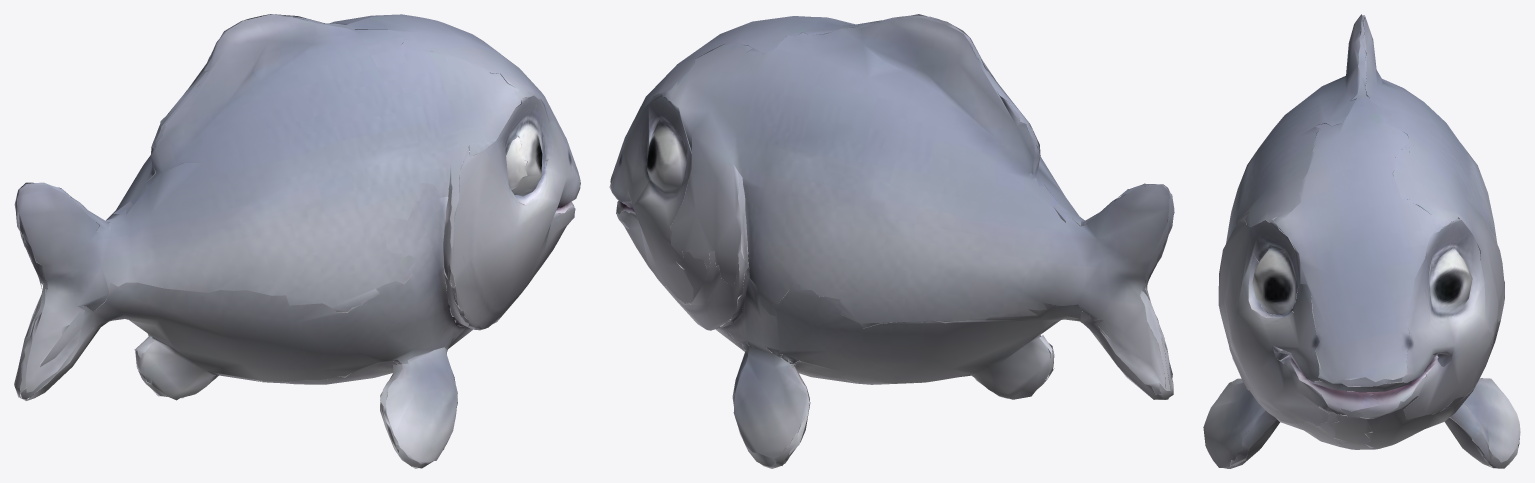
Rendered from fish.glb.
3 renders of one model, left to right at view 1: azimuth 30°, elevation 25°; view 2: azimuth 150°, elevation 25°; view 3: azimuth 270°, elevation 25°, orthographic. The views are drawn at different scales.
Parts seen in each view (by area): view 1: geometry_0; view 2: geometry_0; view 3: geometry_0.
Part boxes in pixels (bbox=[...]): geometry_0: bbox=[14, 14, 580, 468]; geometry_0: bbox=[609, 14, 1174, 468]; geometry_0: bbox=[1203, 14, 1520, 468].
Size of the model in its own units: 0.3003 by 0.2164 by 0.1558.
Materials: 1 (1 with a texture image).
